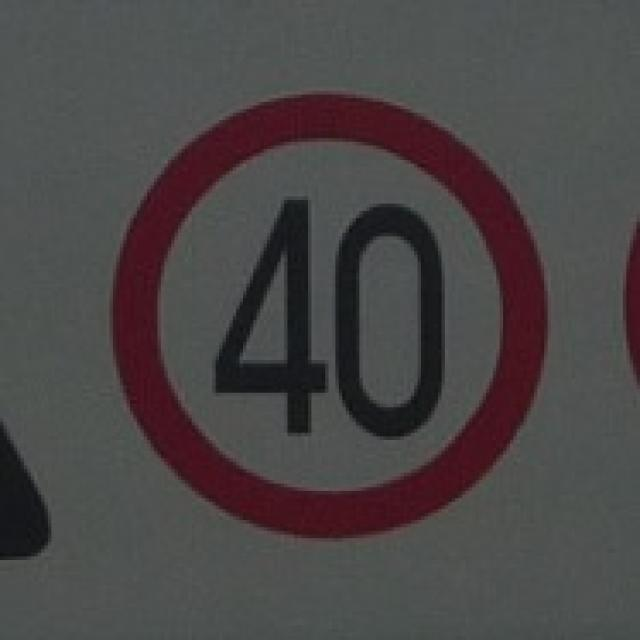Speed Limit -40-: (210, 194, 445, 439)
